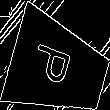P_E: (34, 43, 83, 93)
